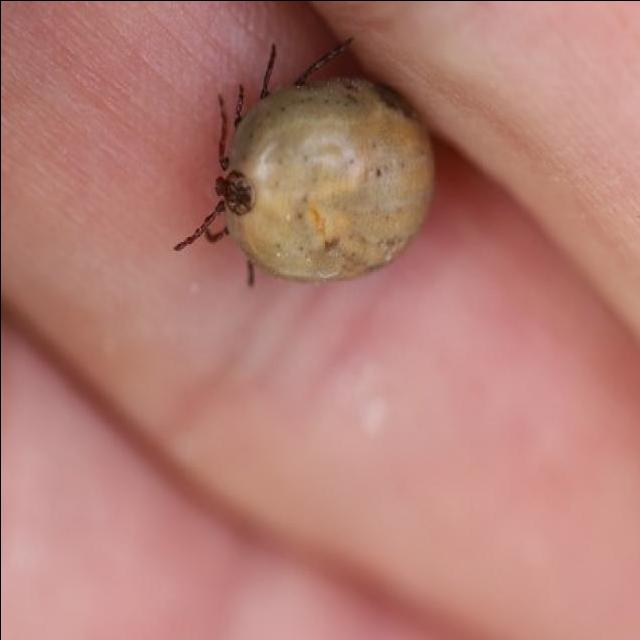Dermacentor Reticulatus-F-Fed: (173, 37, 436, 287)
